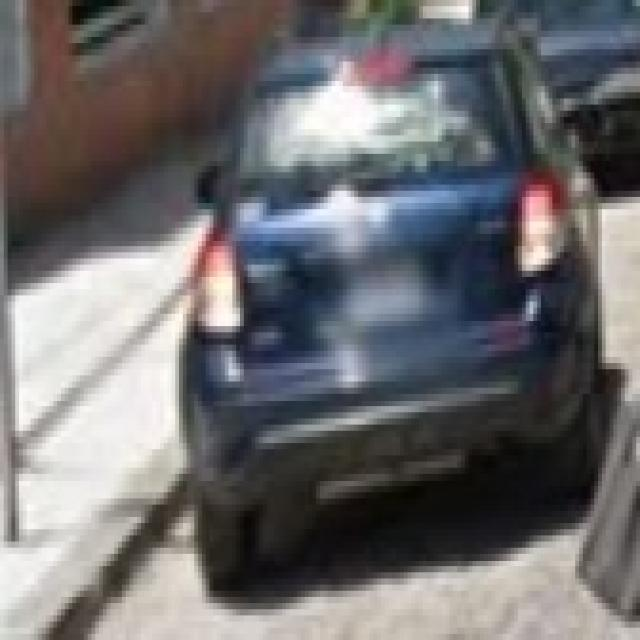Car: (181, 5, 608, 609)
